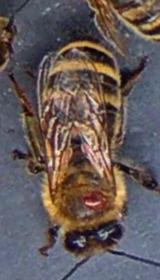varroa_mite: (76, 181, 110, 218)
